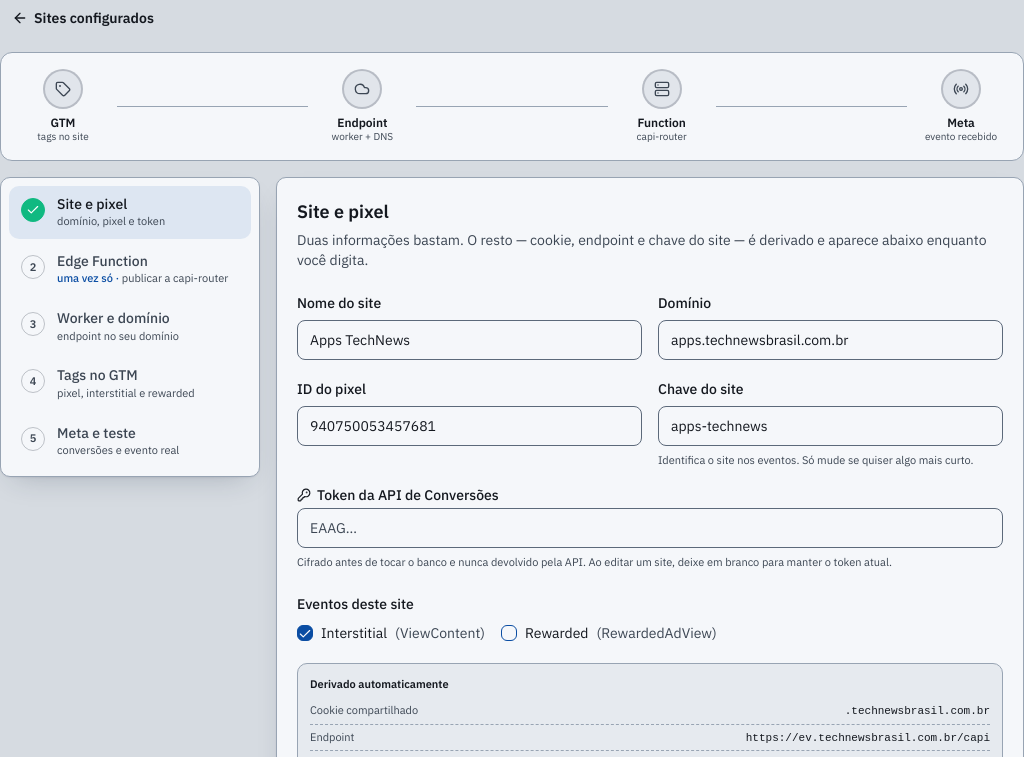
Scenario: MetaCapiWizard › com um evento só, mostra um botão só
Click the button "5 Meta e teste conversões e evento real": (130, 441) 9,414 -> 251,468
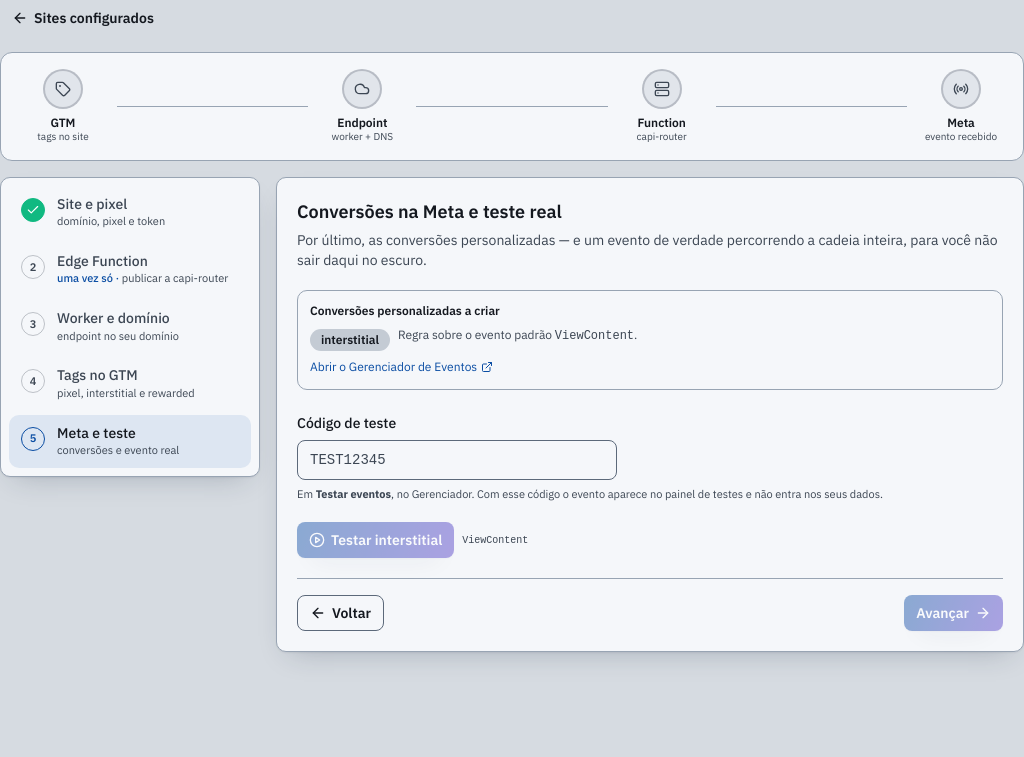
Check: the button "Testar interstitial" is shown, box 297,522 -> 454,558
